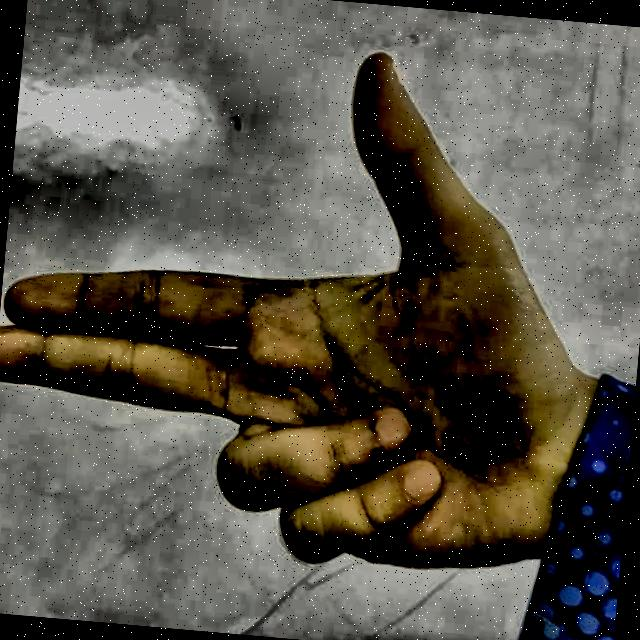Jha: (0, 0, 617, 632)
